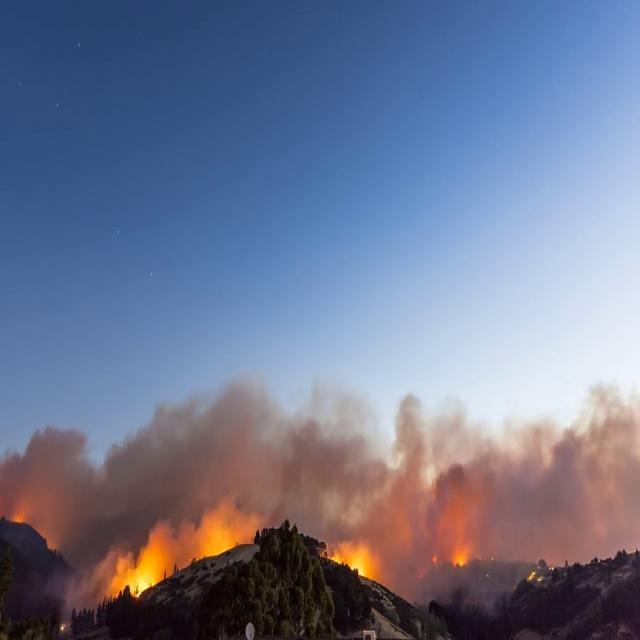Fire: (114, 515, 257, 601), (14, 506, 56, 562), (329, 542, 374, 584), (451, 540, 466, 572)
Smoke: (116, 385, 410, 505), (427, 413, 640, 534), (60, 510, 110, 598), (376, 514, 426, 592), (34, 433, 96, 491)
